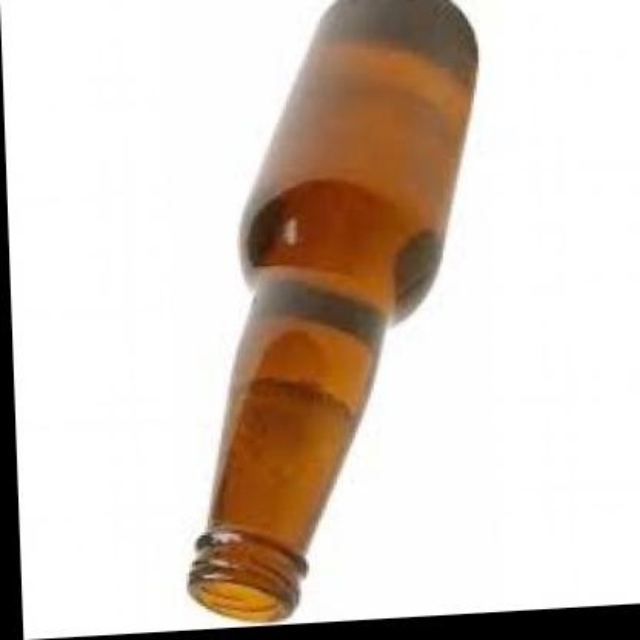trash: (188, 0, 477, 620)
